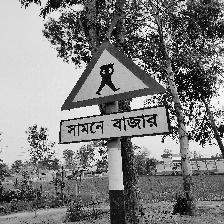Market-in-front: (58, 40, 171, 145)
